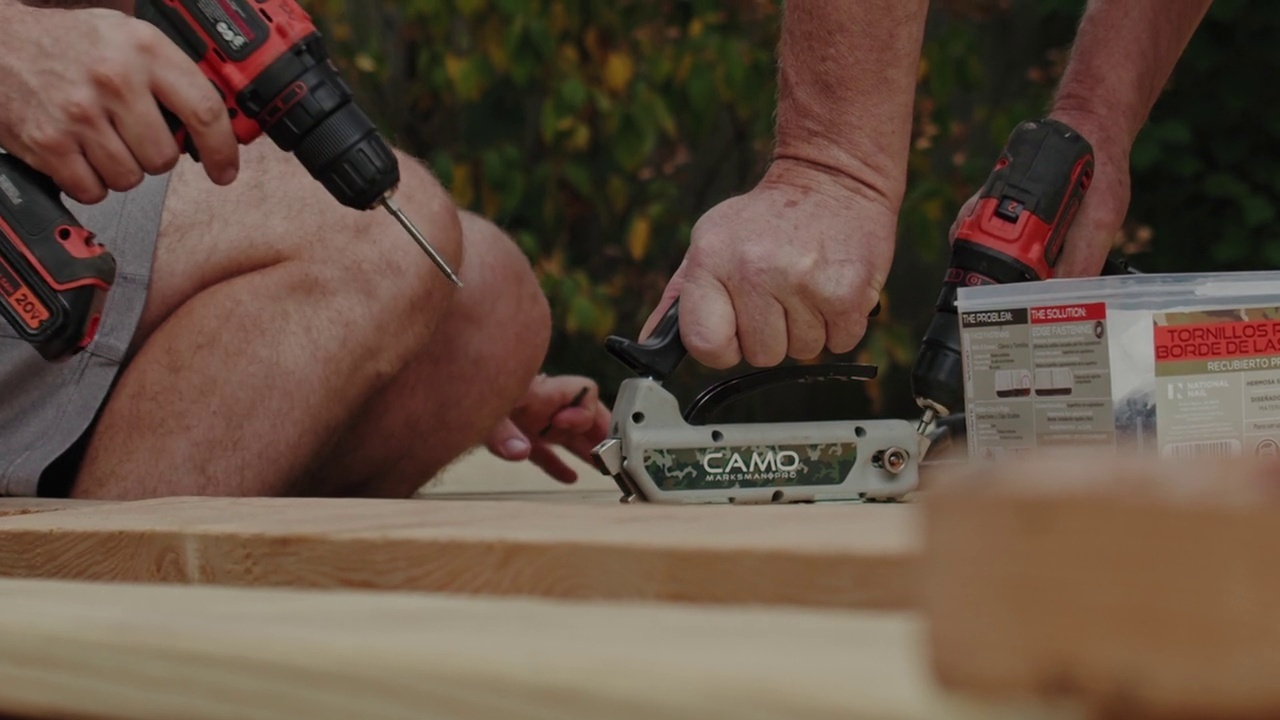driller: (1, 1, 468, 366), (907, 114, 1145, 444)
